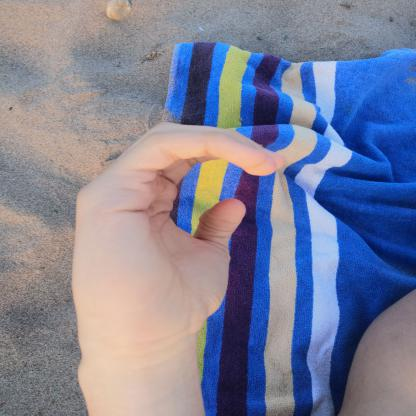JEEM: (50, 110, 301, 355)
